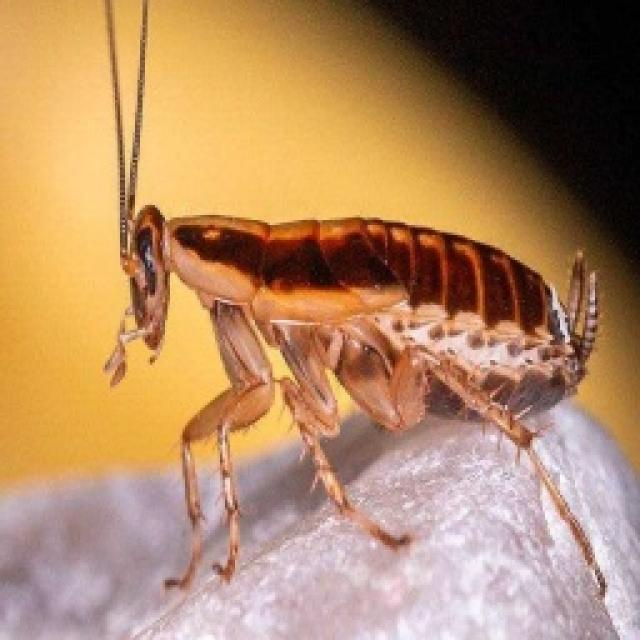cockroach: (42, 212, 633, 500)
